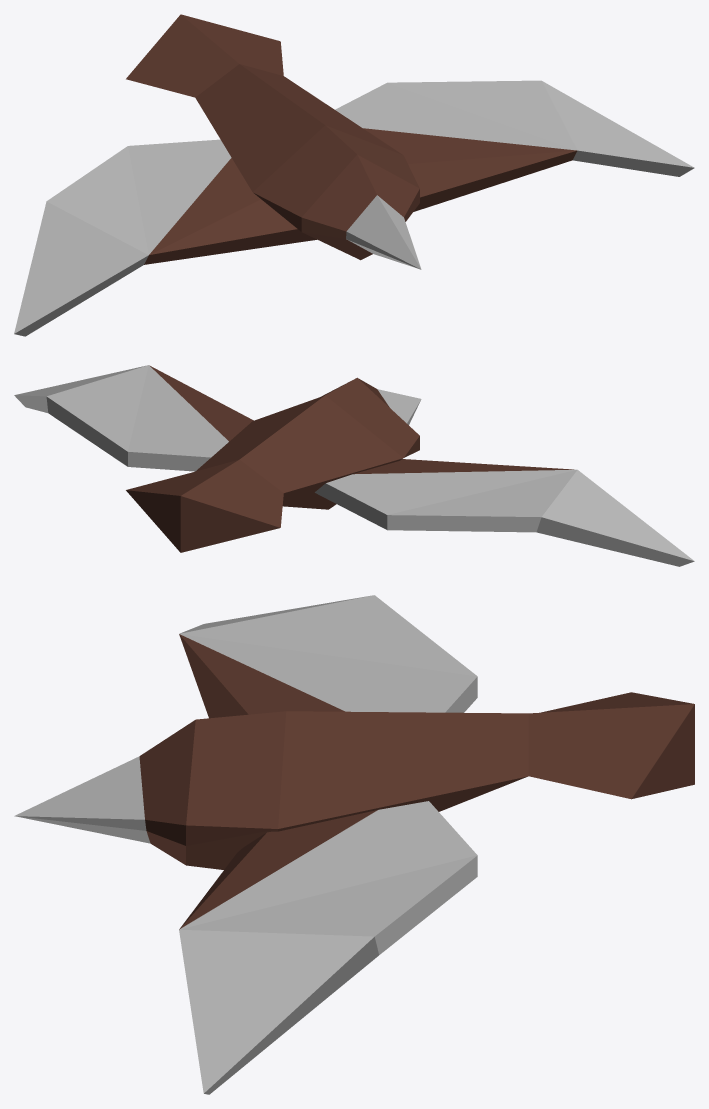
Rendered from Pigeon.fbx.
3 renders of one model, top to bottom at view 1: azimuth 30°, elevation 25°; view 2: azimuth 150°, elevation 25°; view 3: azimuth 270°, elevation 25°, orthographic. The views are drawn at different scales.
Visible parts, largest first — view 1: Pigeon; view 2: Pigeon; view 3: Pigeon.
Boxes of the visible parts, bbox=[...] form: Pigeon: bbox=[14, 14, 694, 336]; Pigeon: bbox=[14, 365, 694, 566]; Pigeon: bbox=[14, 595, 694, 1094].
Size of the model in its own units: 28.49 by 4.88 by 17.45.
